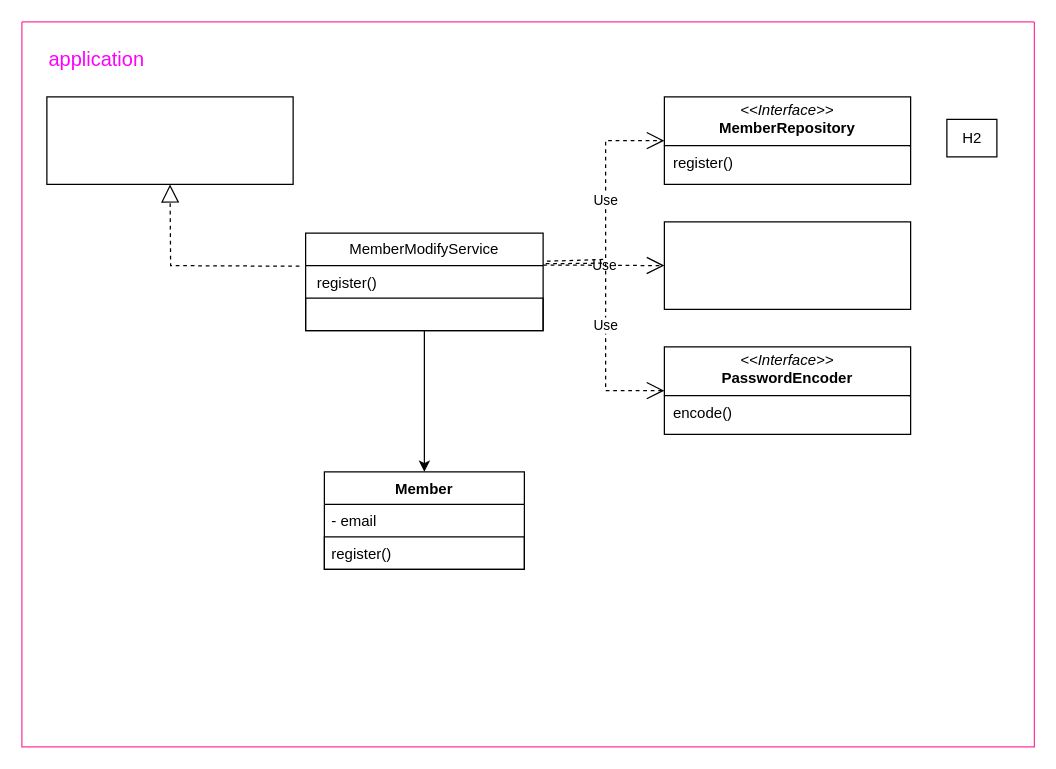
This 1056x769 diagram has some shape labels left out. Here are the shapes that lost their labels. From the top down, the centre of each, then its label:
point (169, 140): <<Interface>> MemberRegister + register()
point (787, 265): <<Interface>> EmailSender send()
point (423, 314): activate()
